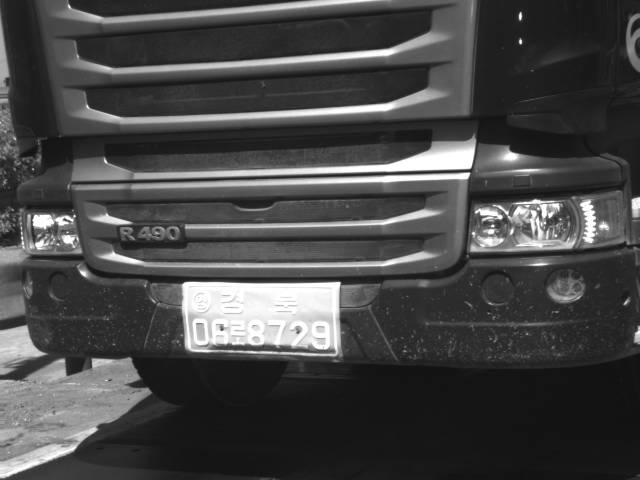car: (1, 1, 639, 414)
plate: (182, 282, 341, 355)
